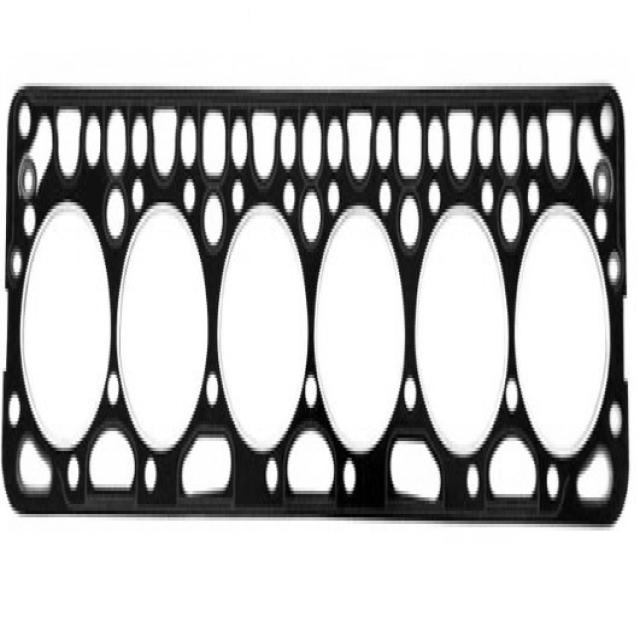missing hole: (79, 169, 116, 225)
